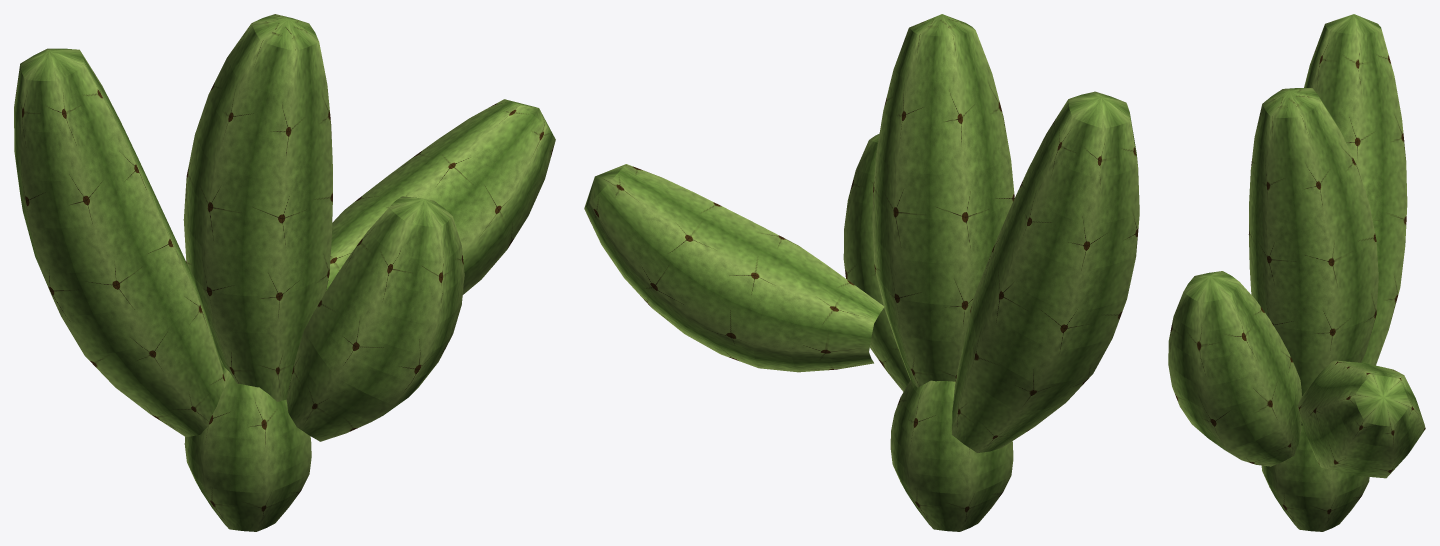
The model's file is mm8_deco_plant50.glb.
3 renders of one model, left to right at view 1: azimuth 30°, elevation 25°; view 2: azimuth 150°, elevation 25°; view 3: azimuth 270°, elevation 25°, orthographic. The views are drawn at different scales.
Parts seen in each view (by area): view 1: Plant; view 2: Plant; view 3: Plant.
Boxes of the visible parts, left/top/right/bottom form: Plant: left=14, top=14, right=555, bottom=531; Plant: left=584, top=14, right=1139, bottom=531; Plant: left=1168, top=14, right=1425, bottom=531.
Bounding box in the file's own units: 1.7 × 1.51 × 0.7984.
1 material, 1 textured.
